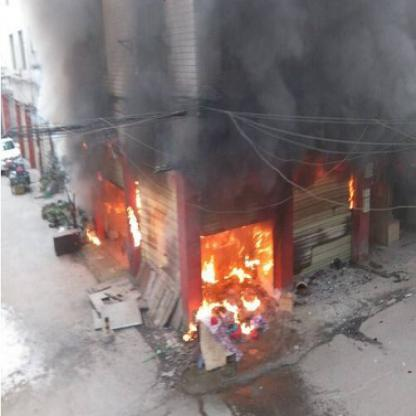fire: (200, 225, 272, 284), (196, 296, 217, 326), (127, 205, 140, 246), (240, 294, 262, 312), (347, 174, 356, 213), (218, 301, 238, 317), (85, 232, 99, 244)
